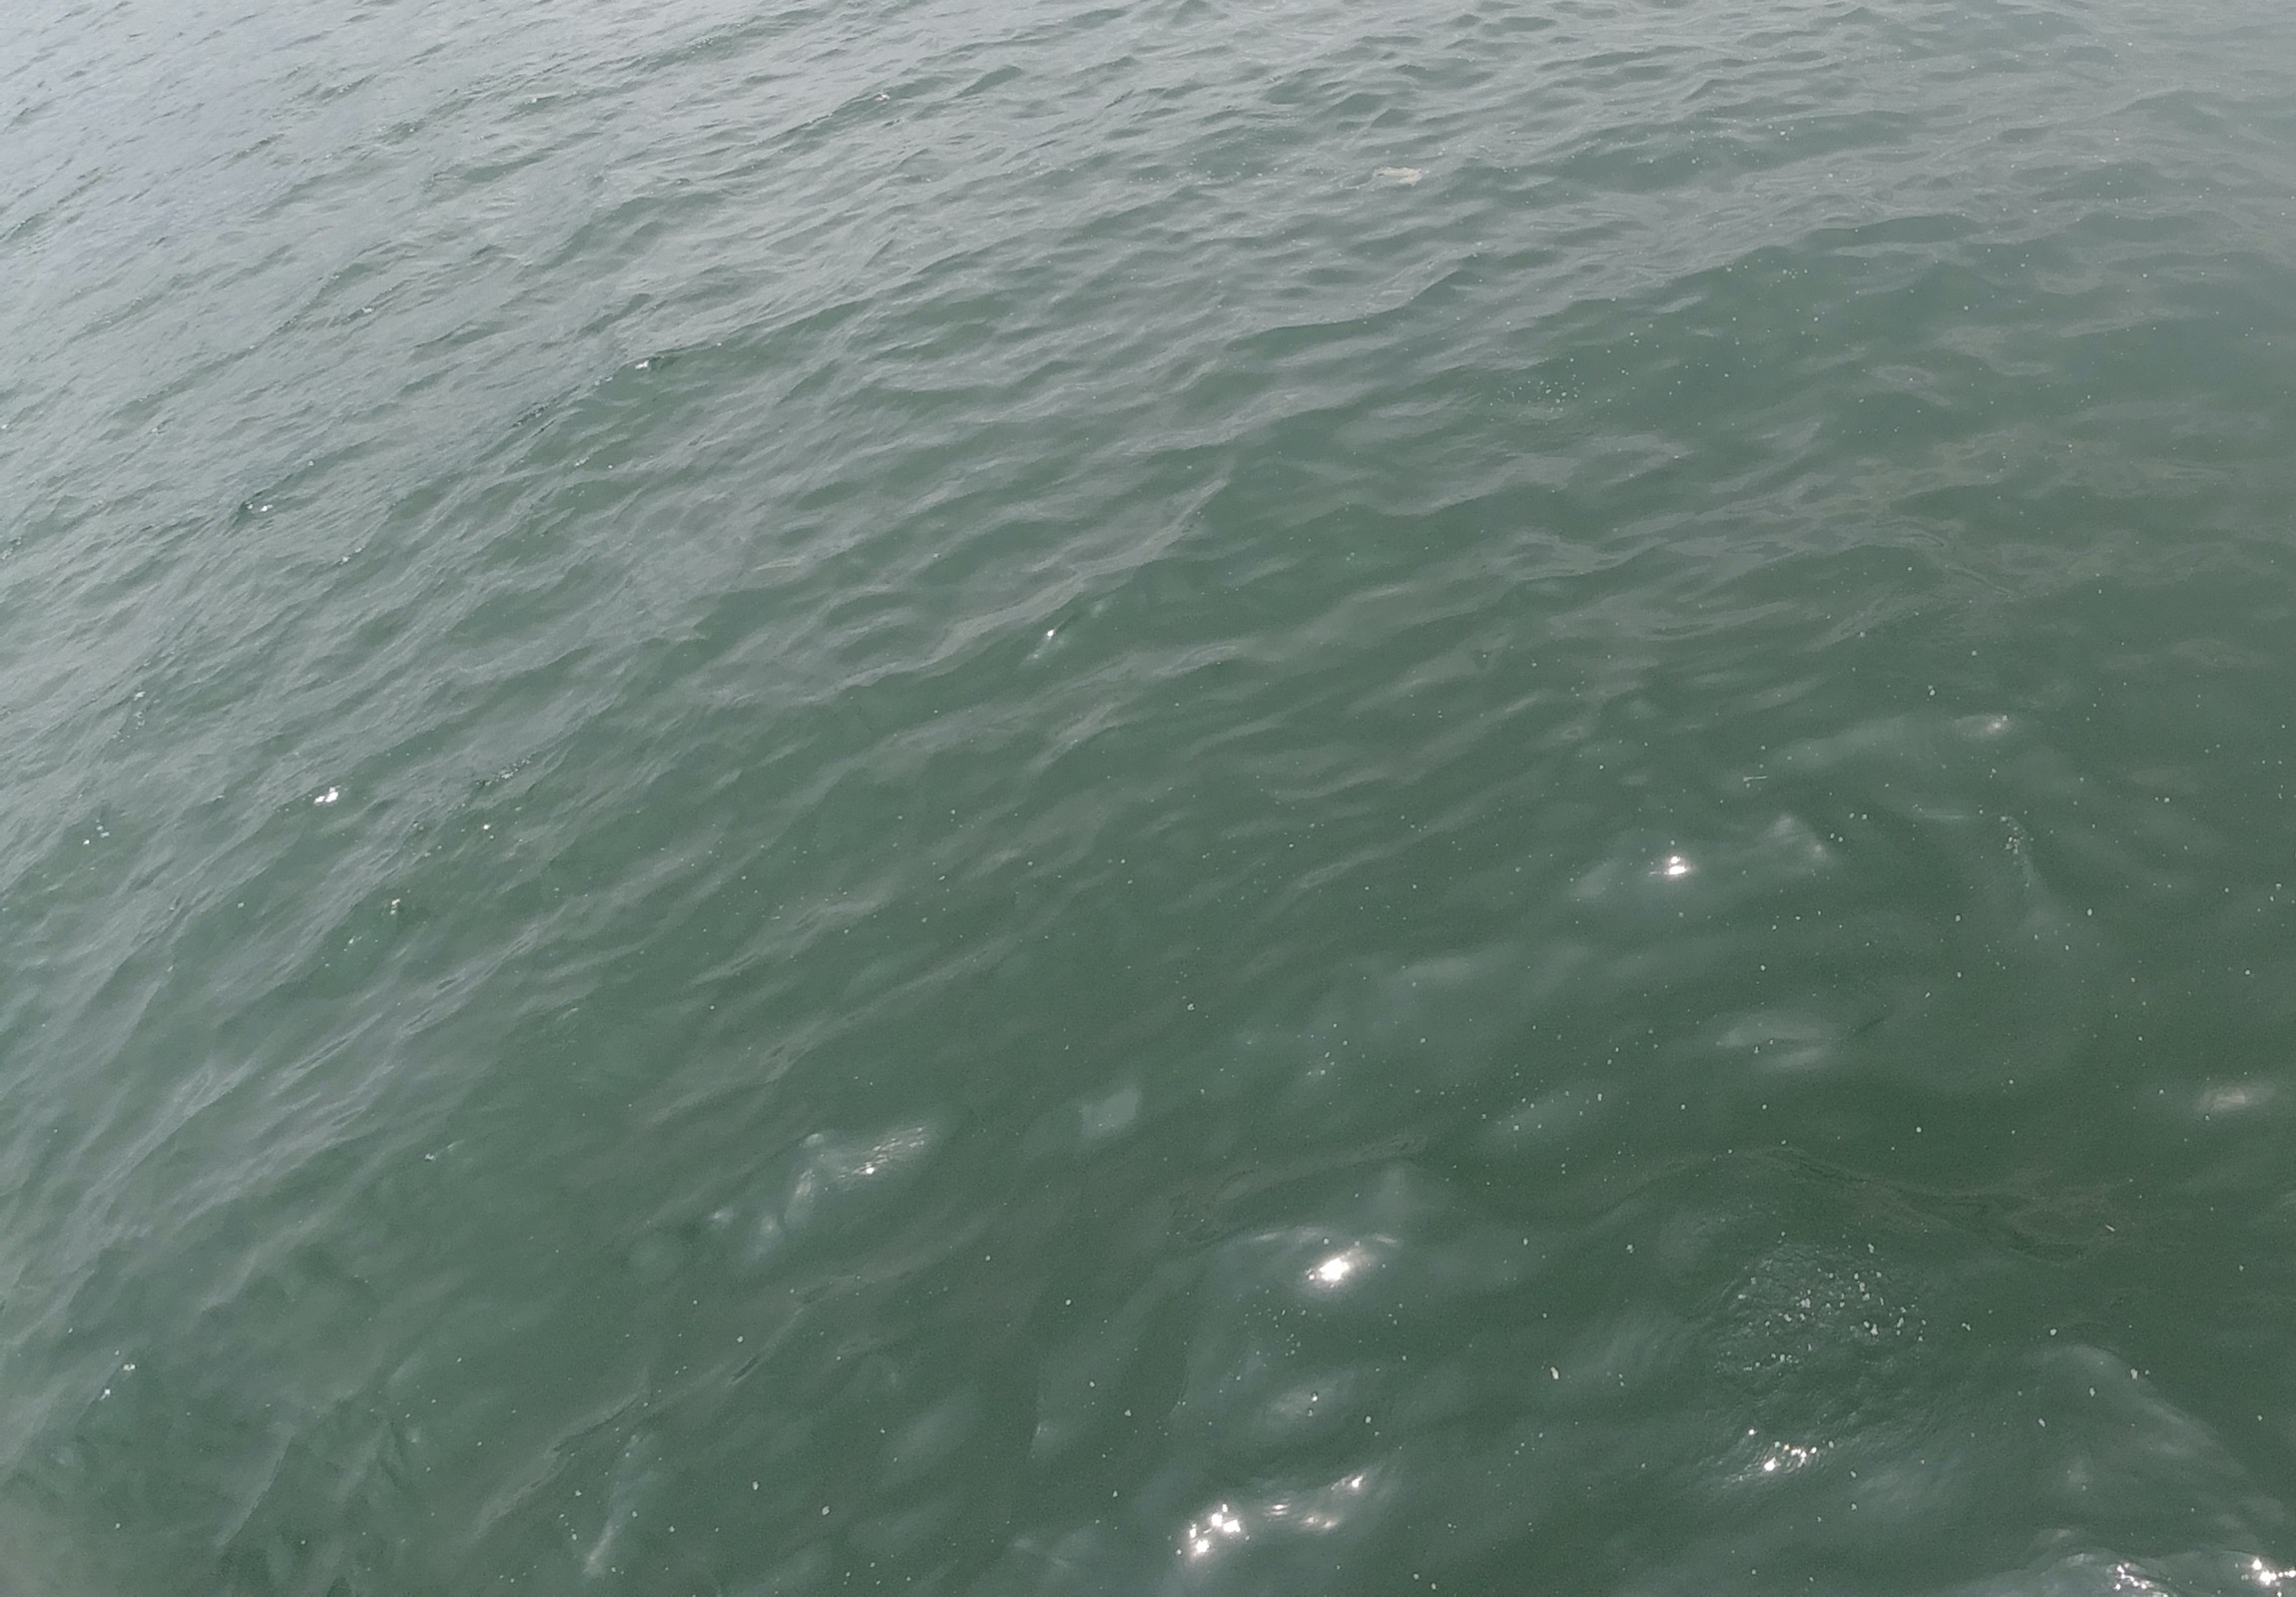plastic: (1347, 161, 1429, 195)
